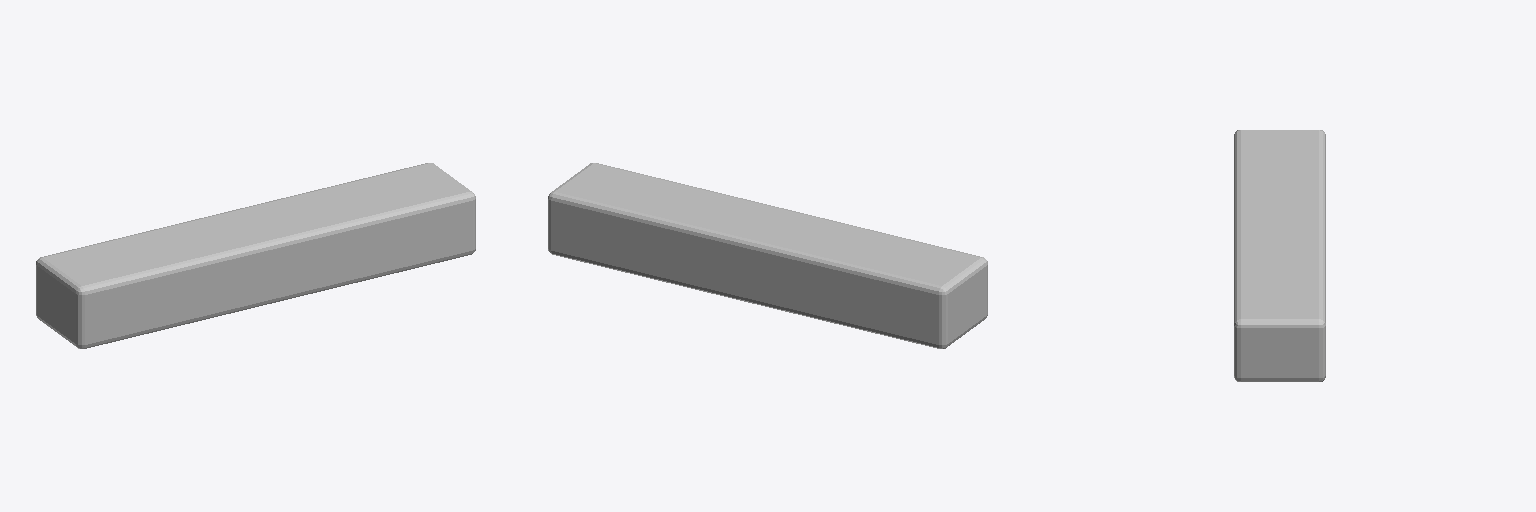
File: paddle.obj
3 renders of one model, left to right at view 1: azimuth 30°, elevation 25°; view 2: azimuth 150°, elevation 25°; view 3: azimuth 270°, elevation 25°, orthographic.
Visible parts, largest first — view 1: Cube; view 2: Cube; view 3: Cube.
Boxes of the visible parts, x1,y1,x2,y2 form: Cube: [36, 163, 475, 348]; Cube: [548, 163, 987, 348]; Cube: [1234, 130, 1325, 381].
Bounding box in the file's own units: 10 × 1.5 × 2.